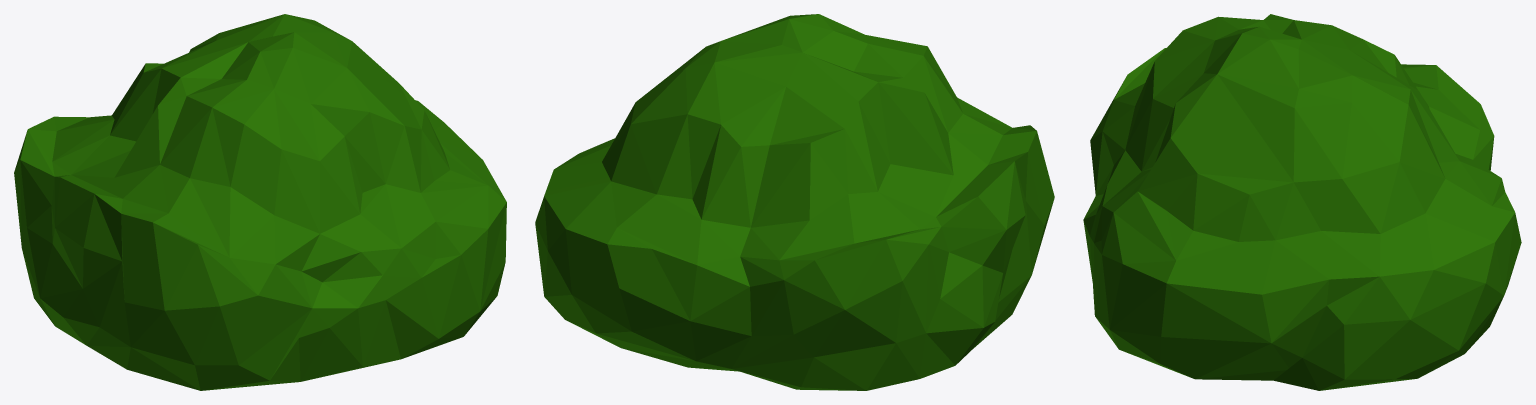
Rendered from Bush_10.glb.
3 views of the same model, side by side, from view 1: azimuth 30°, elevation 25°; view 2: azimuth 150°, elevation 25°; view 3: azimuth 270°, elevation 25° (orthographic).
Parts seen in each view (by area): view 1: Bush_10; view 2: Bush_10; view 3: Bush_10.
Part boxes in pixels (x1=…): Bush_10: x1=14, y1=14, x2=506, y2=390; Bush_10: x1=535, y1=14, x2=1054, y2=390; Bush_10: x1=1083, y1=14, x2=1521, y2=390.
Bounding box in the file's own units: 1.8 × 1.19 × 1.65.
